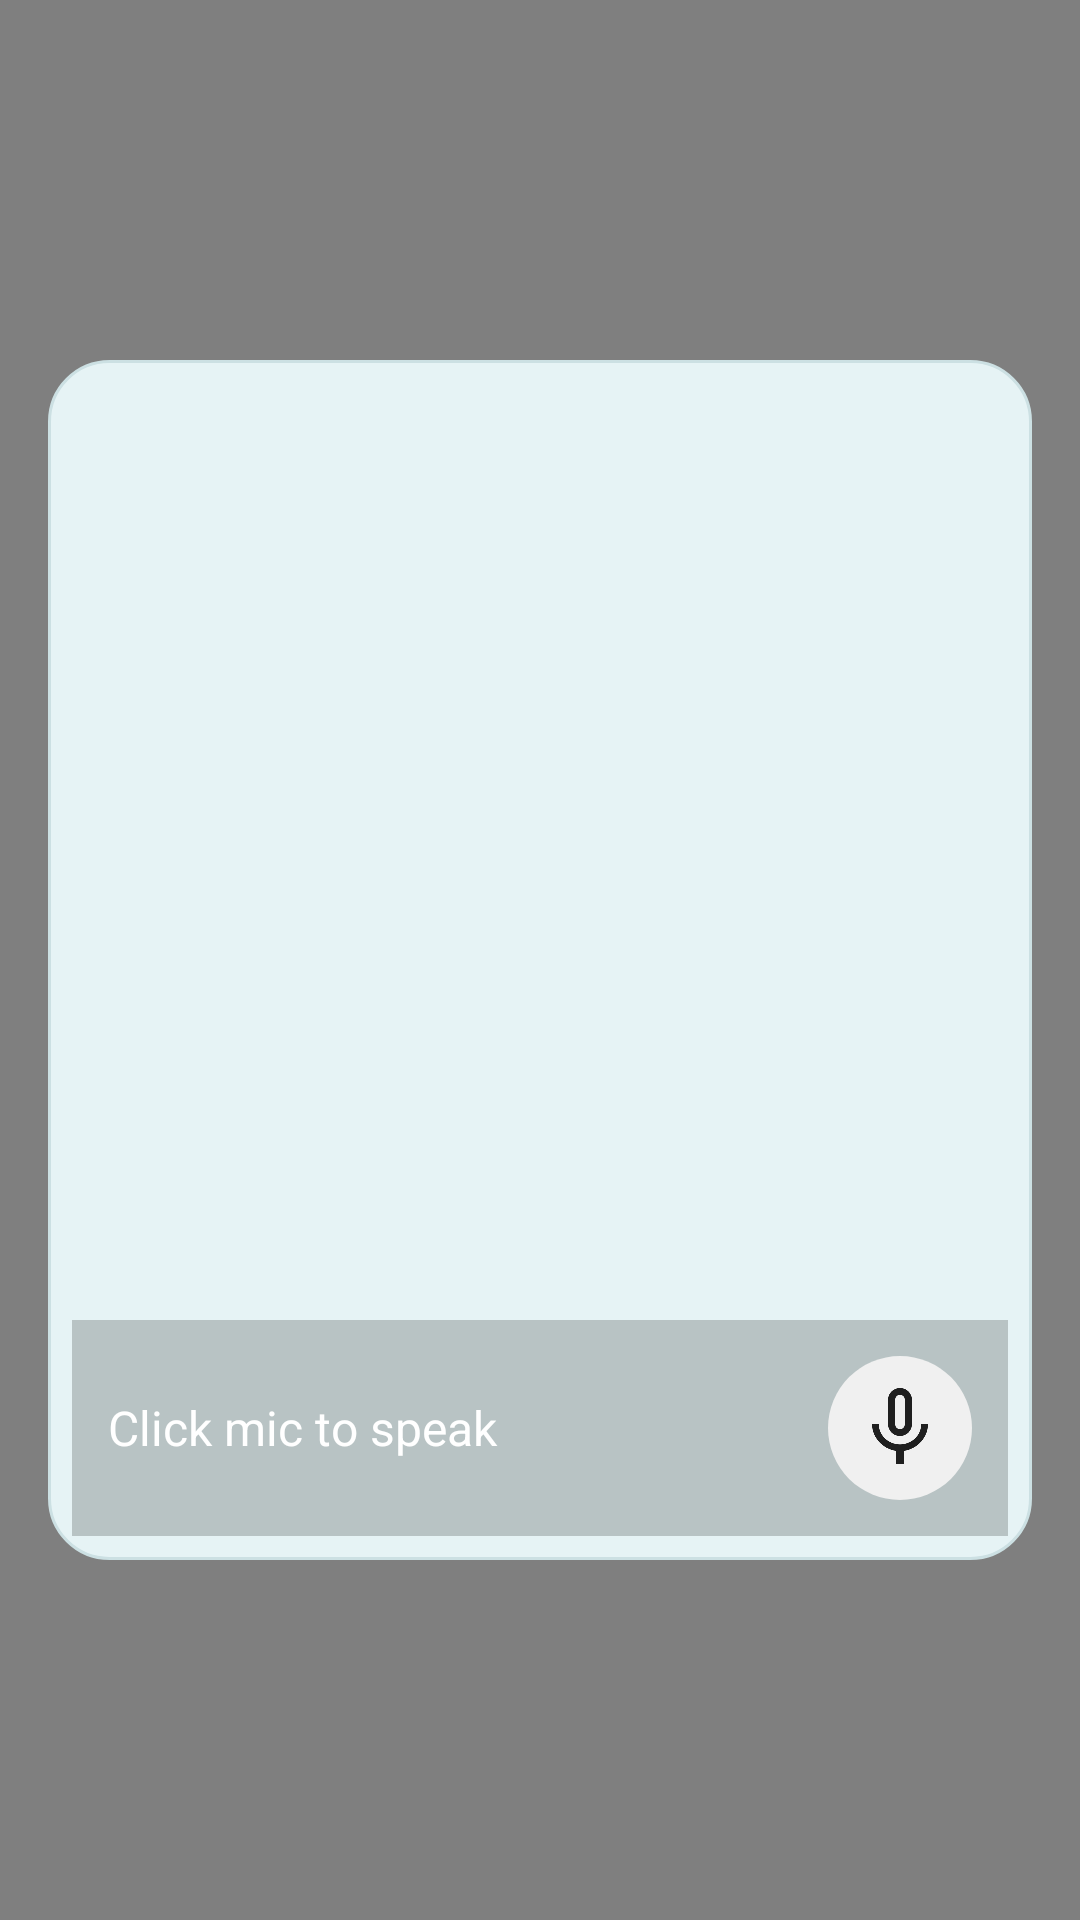

Screen size 1080px×1920px. Icon name, then its center in pixels as (x,y):
Microphone Icon: (900,1428)
